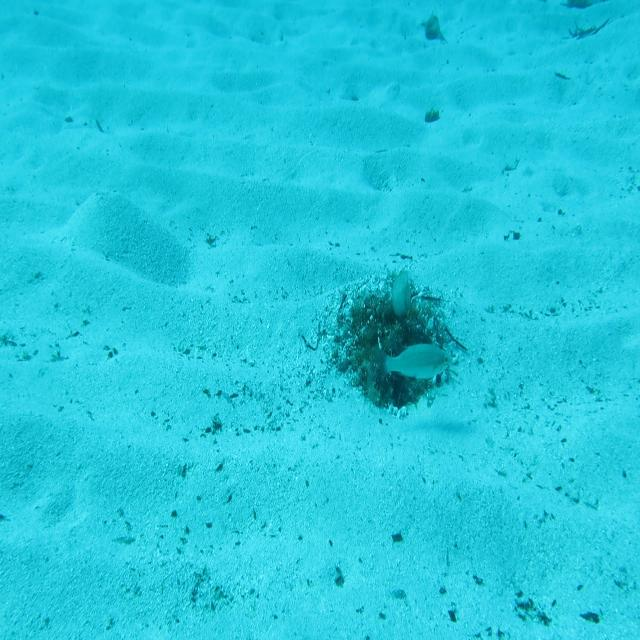NIP_CORE: (387, 268, 418, 320)
female: (370, 336, 458, 386)
nest: (334, 279, 466, 410)
